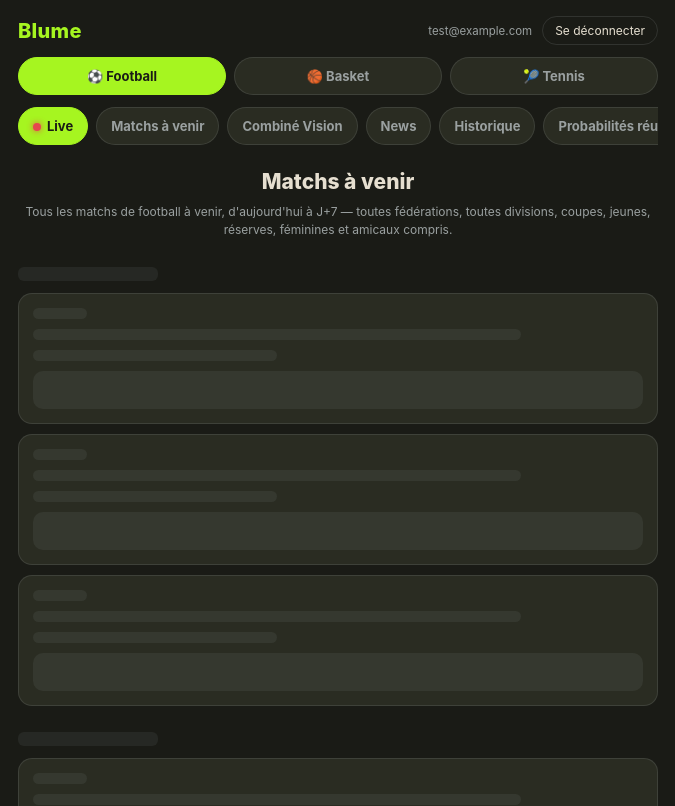
Scenario: Matchs à venir (Basket) — groupés jour par jour, sans score › groupe les matchs en sections par jour (Aujourd'hui, Demain), toutes compétitions confondues
expect the tab with test id "sport-tab-football" is shown: met, box top-left (18, 57), bottom-right (226, 95)
Click the tab with test id "sport-tab-basketball": (338, 76) top-left (234, 57), bottom-right (442, 95)
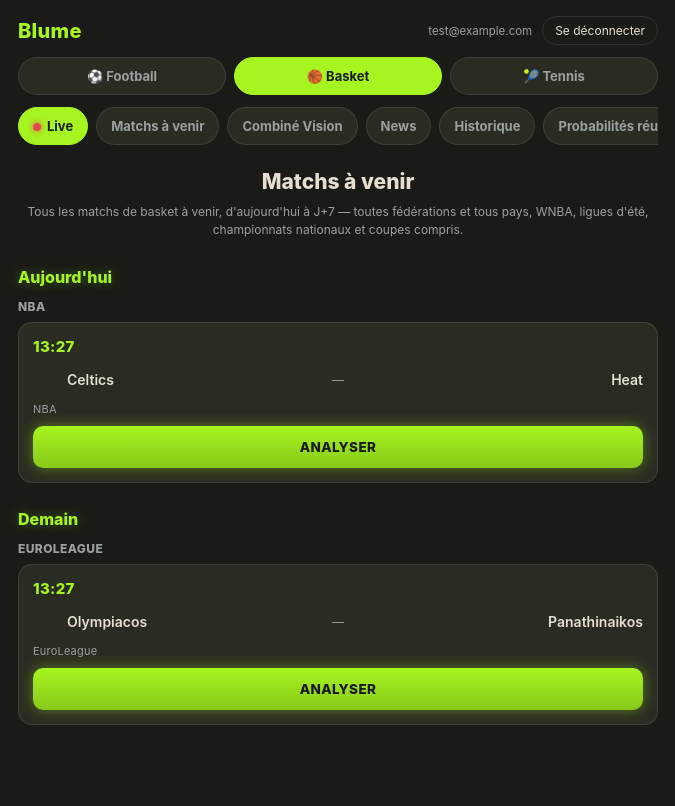
expect the text "Celtics" is shown: met, box top-left (67, 371), bottom-right (114, 388)
expect the number of elements with test id "day-section" is 2: met, box top-left (18, 267), bottom-right (658, 483); top-left (18, 509), bottom-right (658, 725)
expect the heading "Aujourd'hui" is shown: met, box top-left (18, 267), bottom-right (112, 287)
